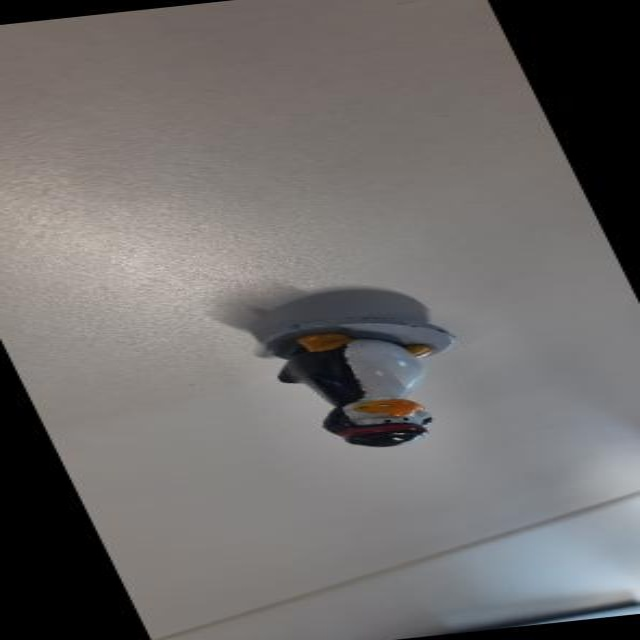Penguin: (225, 294, 509, 467)
